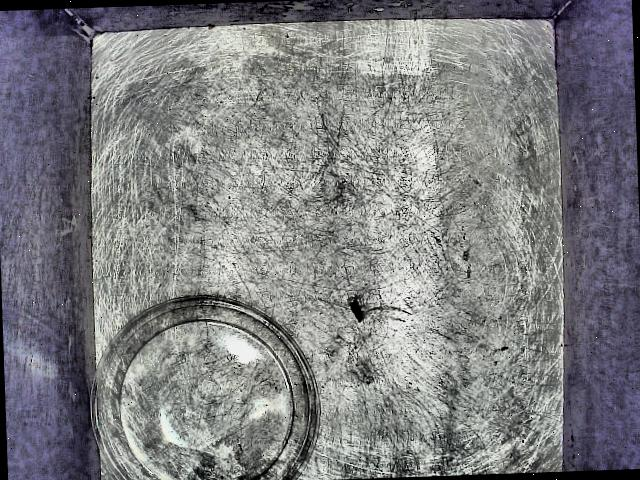Plastic: (77, 278, 322, 480)
